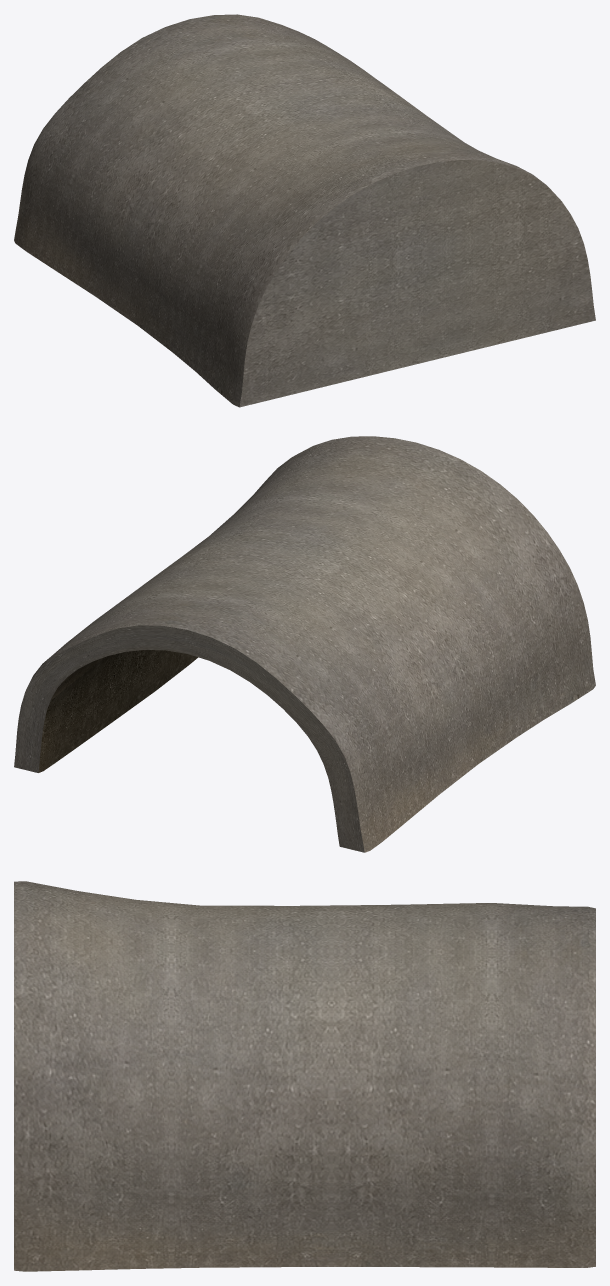
File: PreqinRidgeCap.fbx
The picture shows the model from 3 angles, top to bottom: view 1: azimuth 30°, elevation 25°; view 2: azimuth 150°, elevation 25°; view 3: azimuth 270°, elevation 25°; orthographic projection. The views are drawn at different scales.
Visible parts, largest first — view 1: RidgeCap_LOD0; view 2: RidgeCap_LOD0; view 3: RidgeCap_LOD0.
Part boxes in pixels (x1,y1,x2,y2): RidgeCap_LOD0: (14,14,595,407); RidgeCap_LOD0: (14,436,595,852); RidgeCap_LOD0: (14,881,595,1271).
Size of what is drawn, in the model's own units: 0.3472 by 0.1822 by 0.38.
Materials: 1 (1 with a texture image).
